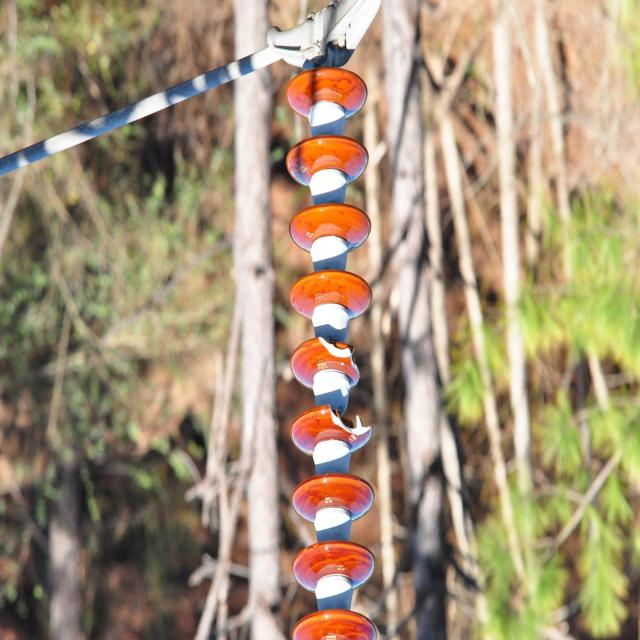broken: (316, 336, 361, 384), (324, 398, 371, 437)
insulator: (283, 66, 378, 640)
